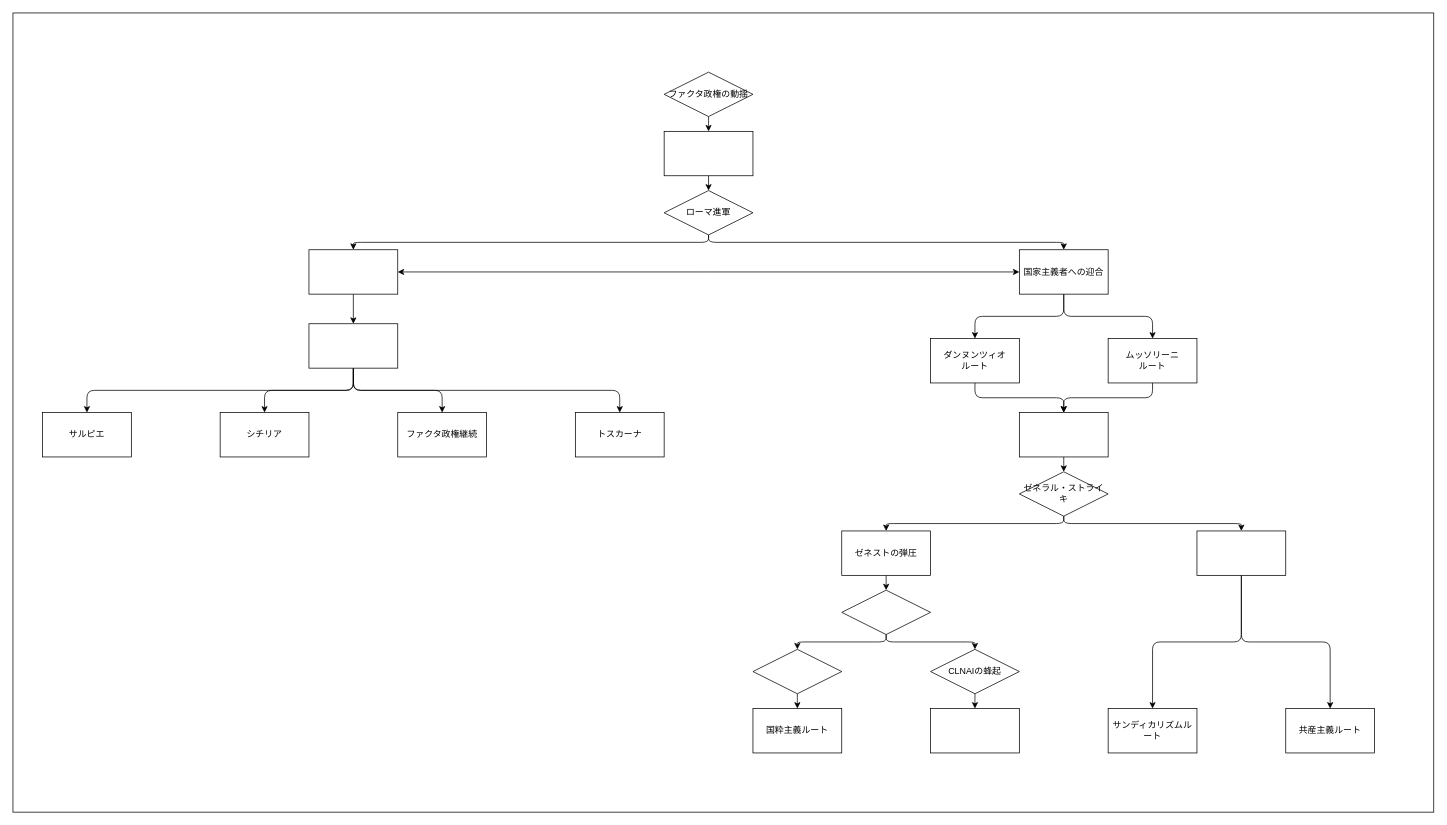
Some shapes in this 1447 by 825 pixel diagram are drawn without their labels. The centre of each missing label's shape, as x and y in pixels:
"ゼネストへの屈服" goes at (1241,552).
"共和主義ルート" goes at (974,730).
"国家主義者の取締" goes at (353,271).
"支持の回復" goes at (797,671).
"支持率の低下" goes at (886,612).
"政権発足" goes at (1063,434).
"教皇連邦制ルート" goes at (353,345).
"連立の動揺" goes at (708,153).
